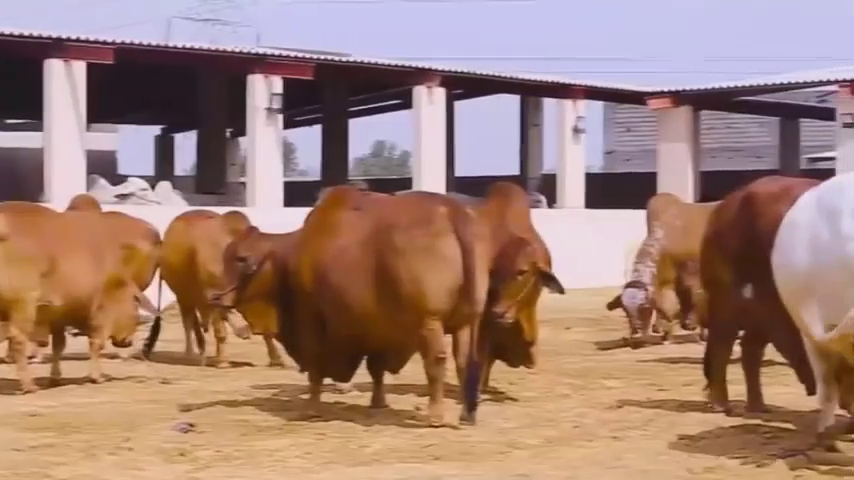bo: (190, 173, 478, 426), (690, 164, 852, 449), (450, 158, 567, 405), (6, 198, 157, 389), (146, 175, 283, 377), (592, 177, 703, 343)
